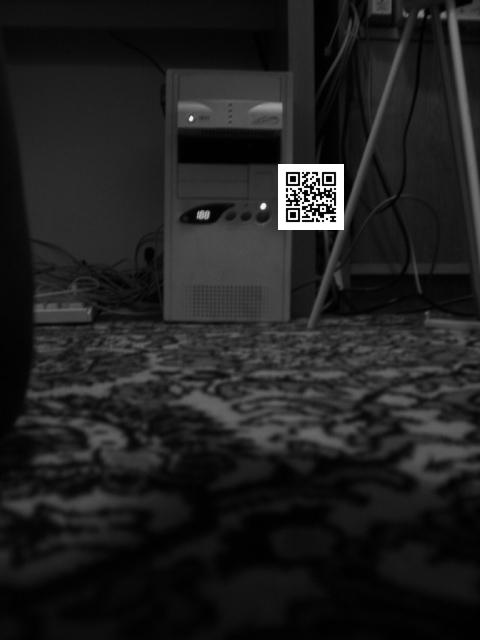qr_code: (276, 164, 344, 230)
